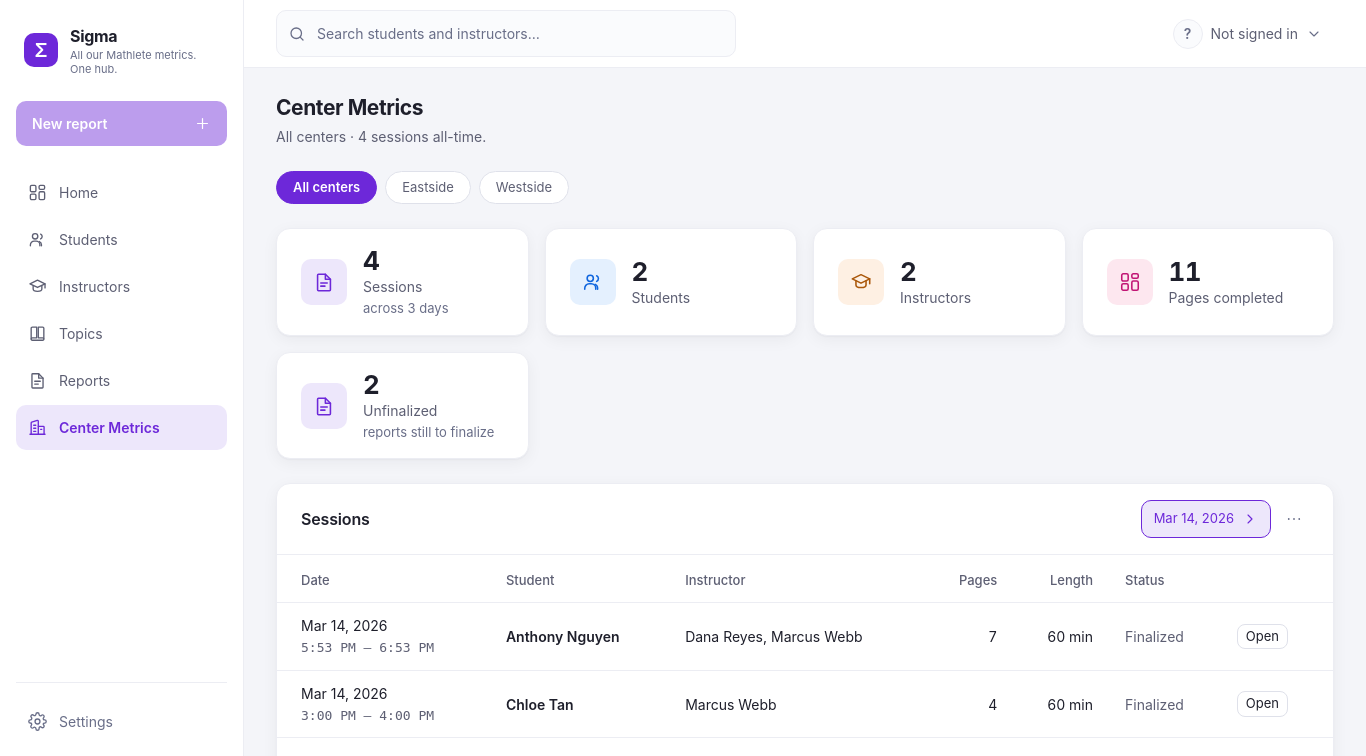
Test: center metrics page › opens a session in a dialog carrying the notes the list withholds
Click the button with aria-label "open the mar 14, 2026 session for anthony nguyen".
click(1262, 637)  # box [1237,624,1288,649]
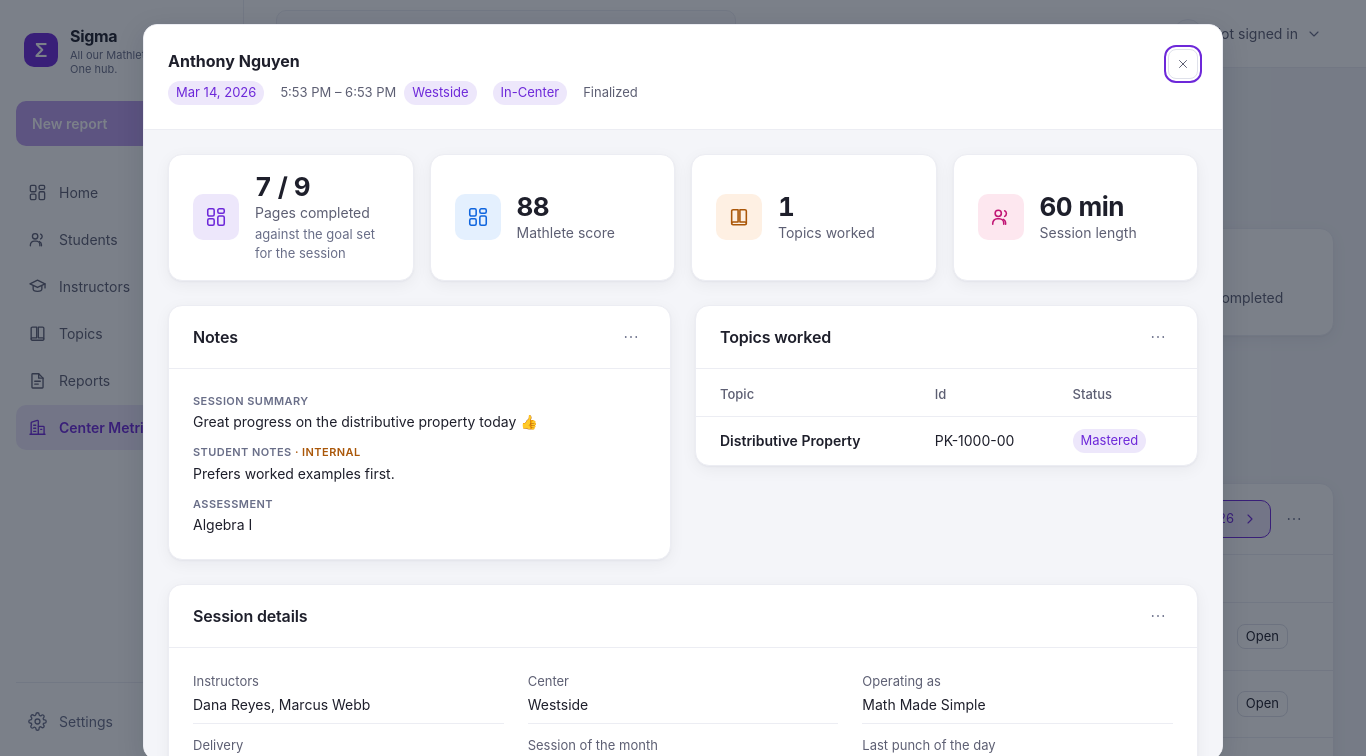
Check: the link "Anthony Nguyen" is shown, box [168,51,300,71]
Check: the text "Prefers worked examples first." is shown, box [193,465,395,482]
Check: the text "Session of the month" is shown, box [528,737,658,753]
